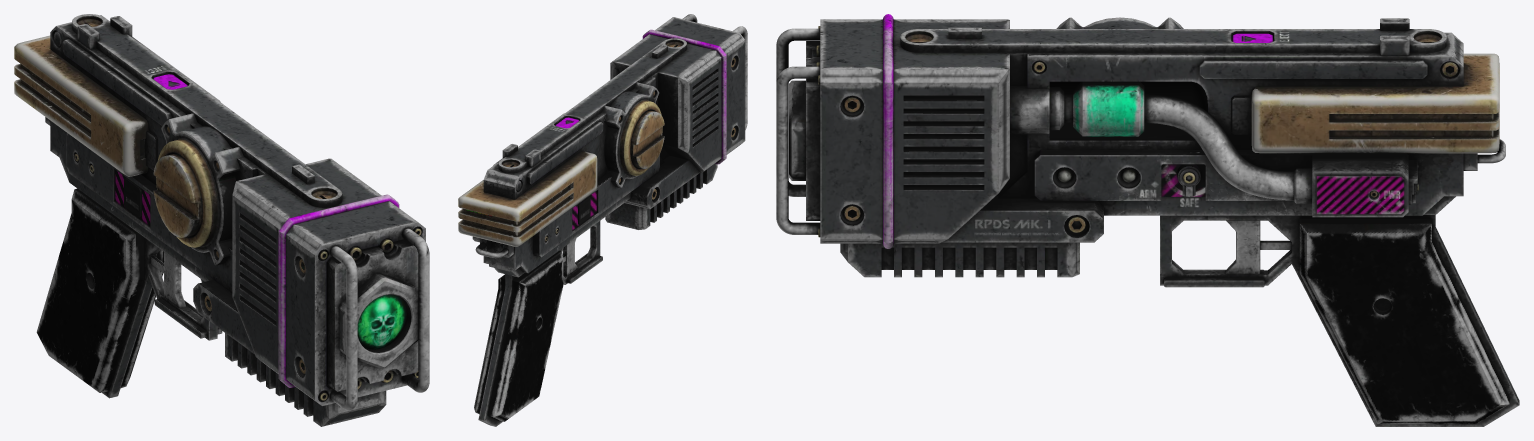
The model's file is pistol.glb.
The picture shows the model from 3 angles, left to right: view 1: azimuth 30°, elevation 25°; view 2: azimuth 150°, elevation 25°; view 3: azimuth 270°, elevation 25°; orthographic projection. The views are drawn at different scales.
Visible parts, largest first — view 1: main, handle, battery, FRT_guard, edge_trim, trigger; view 2: main, handle, battery, edge_trim, FRT_guard, trigger; view 3: main, handle, battery, pipe, FRT_guard, edge_trim, trigger.
Part boxes in pixels (x1,y1,x2,y2): main: (45, 14, 425, 426); handle: (36, 188, 163, 392); battery: (14, 35, 148, 176); FRT_guard: (329, 228, 429, 410); edge_trim: (278, 194, 399, 387); trigger: (150, 252, 186, 308); main: (472, 17, 745, 426); handle: (474, 250, 563, 421); battery: (458, 151, 597, 246); edge_trim: (642, 29, 726, 164); FRT_guard: (682, 14, 747, 129); trigger: (562, 238, 577, 275); main: (789, 17, 1519, 426); handle: (1299, 218, 1509, 424); battery: (1251, 53, 1499, 153); pipe: (1144, 94, 1294, 200); FRT_guard: (776, 28, 820, 234); edge_trim: (883, 14, 893, 248); trigger: (1225, 220, 1291, 274).
Size of the model in its own units: 0.0628 by 0.176 by 0.3.
4 materials, 4 textured.
